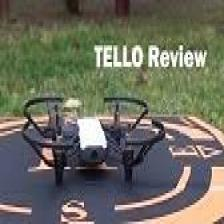drone: (23, 96, 166, 179)
